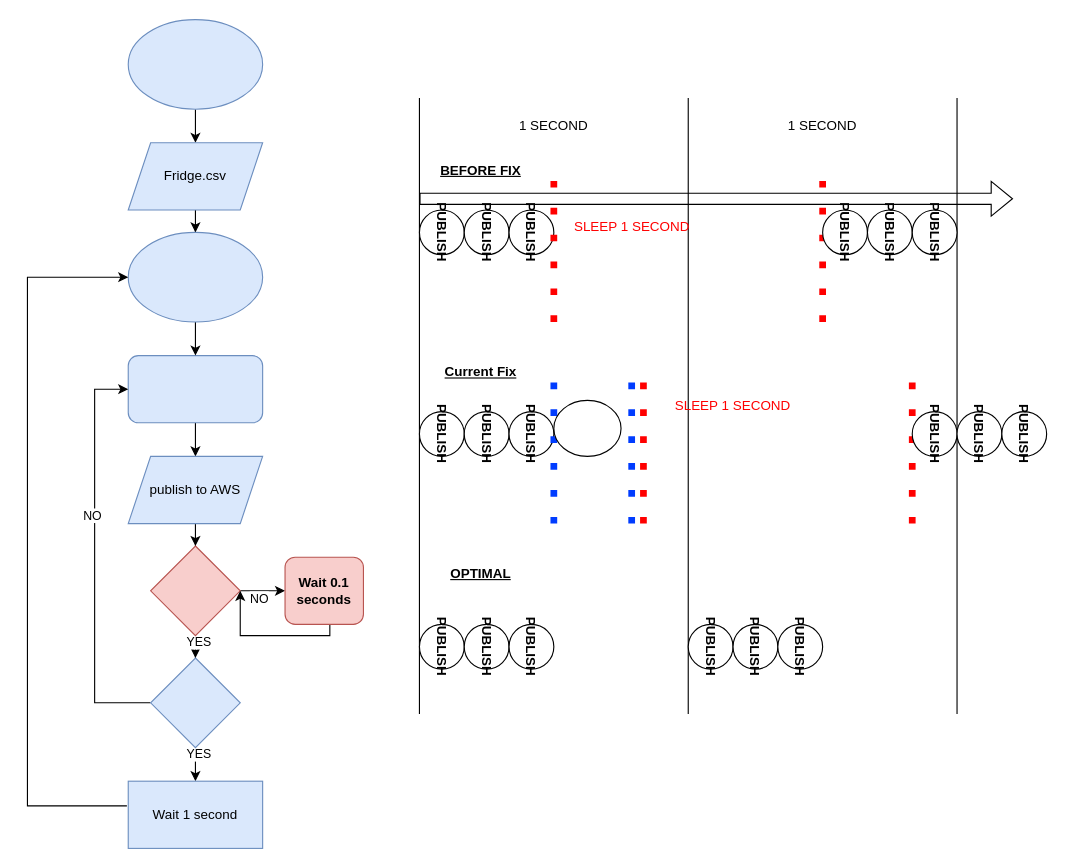
This 1066x868 diagram has some shape labels left out. The shapes that lost their labels are listed below. From the top down, each one's centre as x and y in pixels, then its label:
At [195,63]: "logic.py".
At [195,276]: "Publish loop".
At [195,388]: "publish, qos =1".
At [587,427]: "NETWORK ISSUE".
At [195,590]: "PUBACK received".
At [195,702]: "PUBLISH 3 TIMES".
